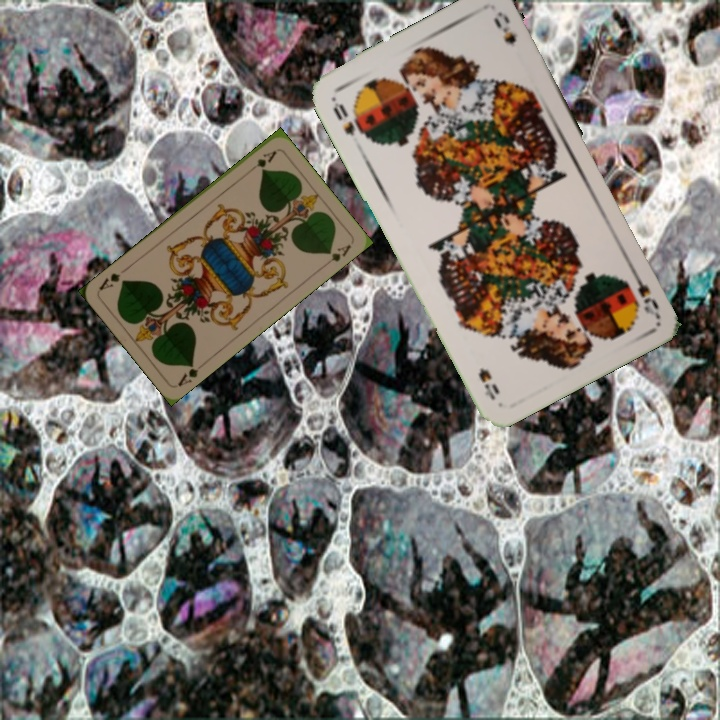GA: (244, 147, 279, 174), (173, 358, 201, 389)
SO: (626, 264, 662, 319), (328, 94, 366, 139)
